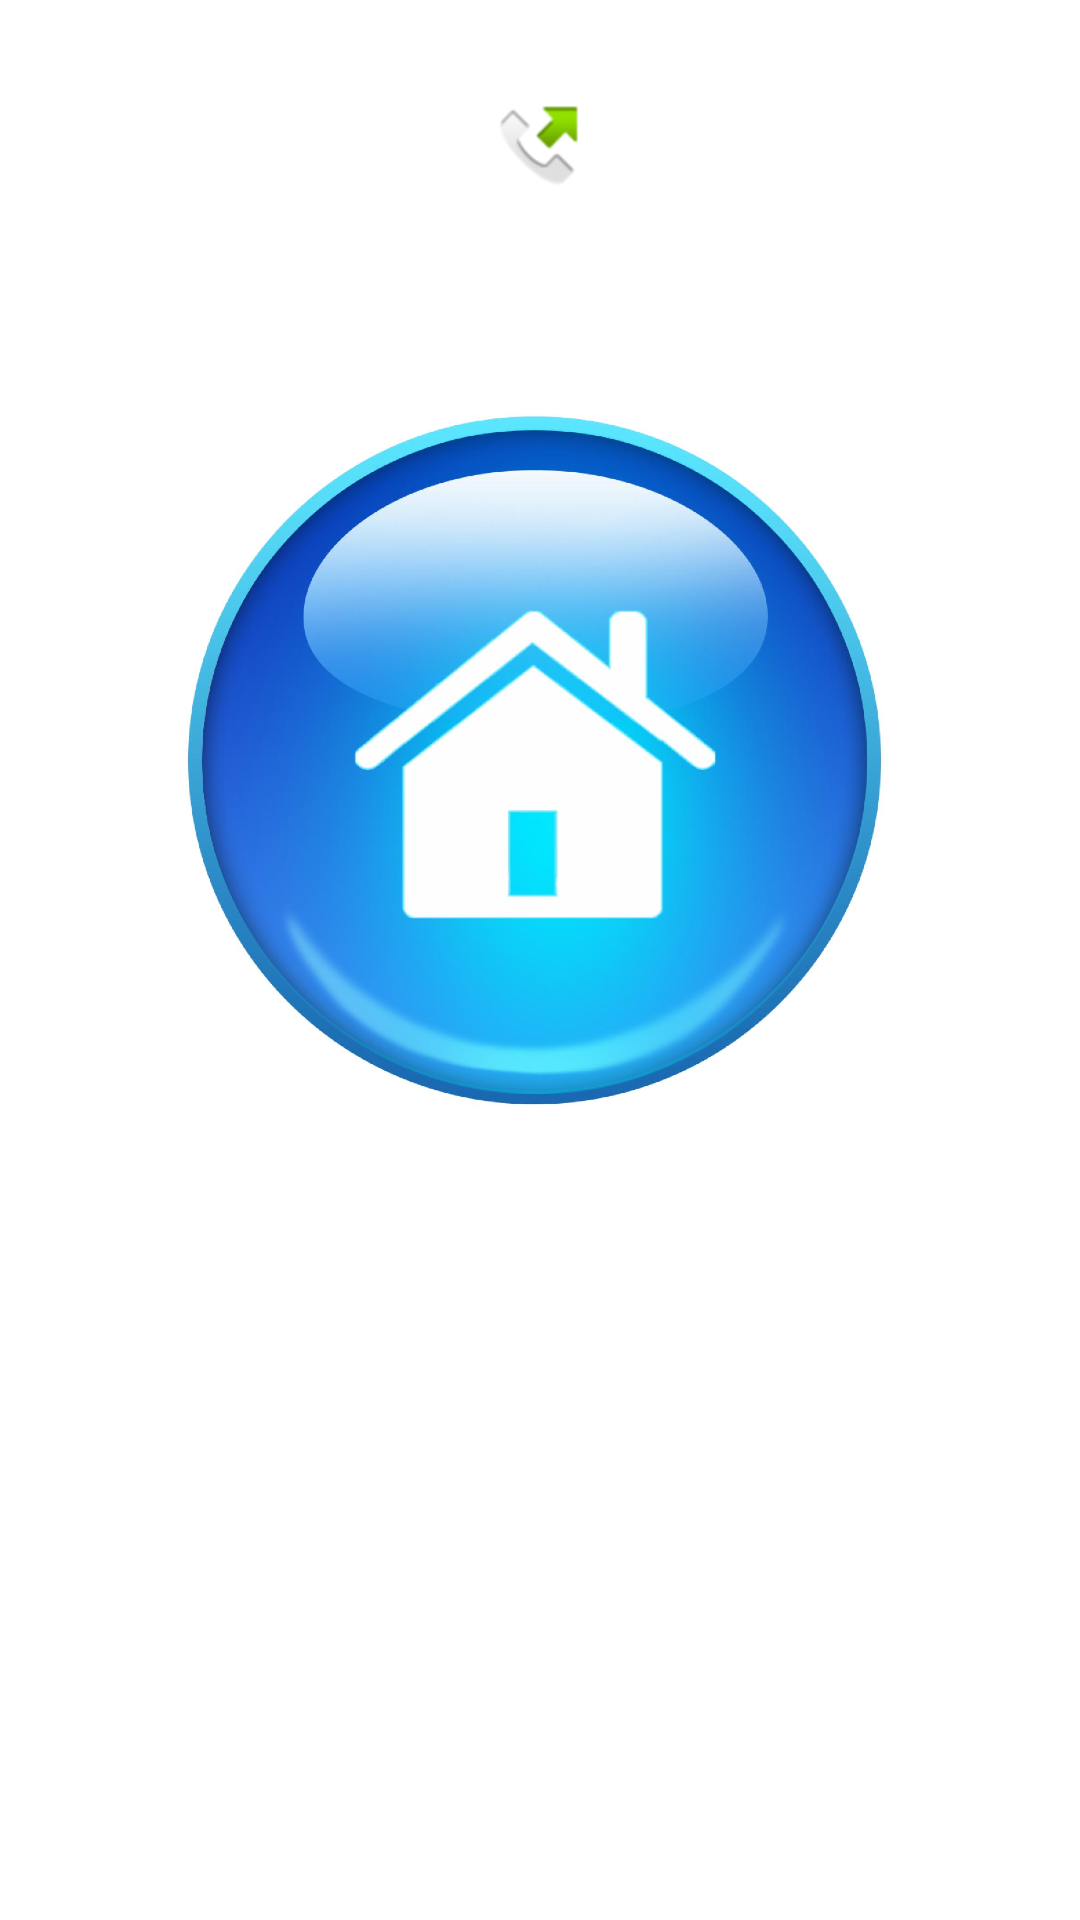

Screen size 1080×1920. Icon name, then its center in pixels as (x,y):
sym call outgoing: (539,144)
